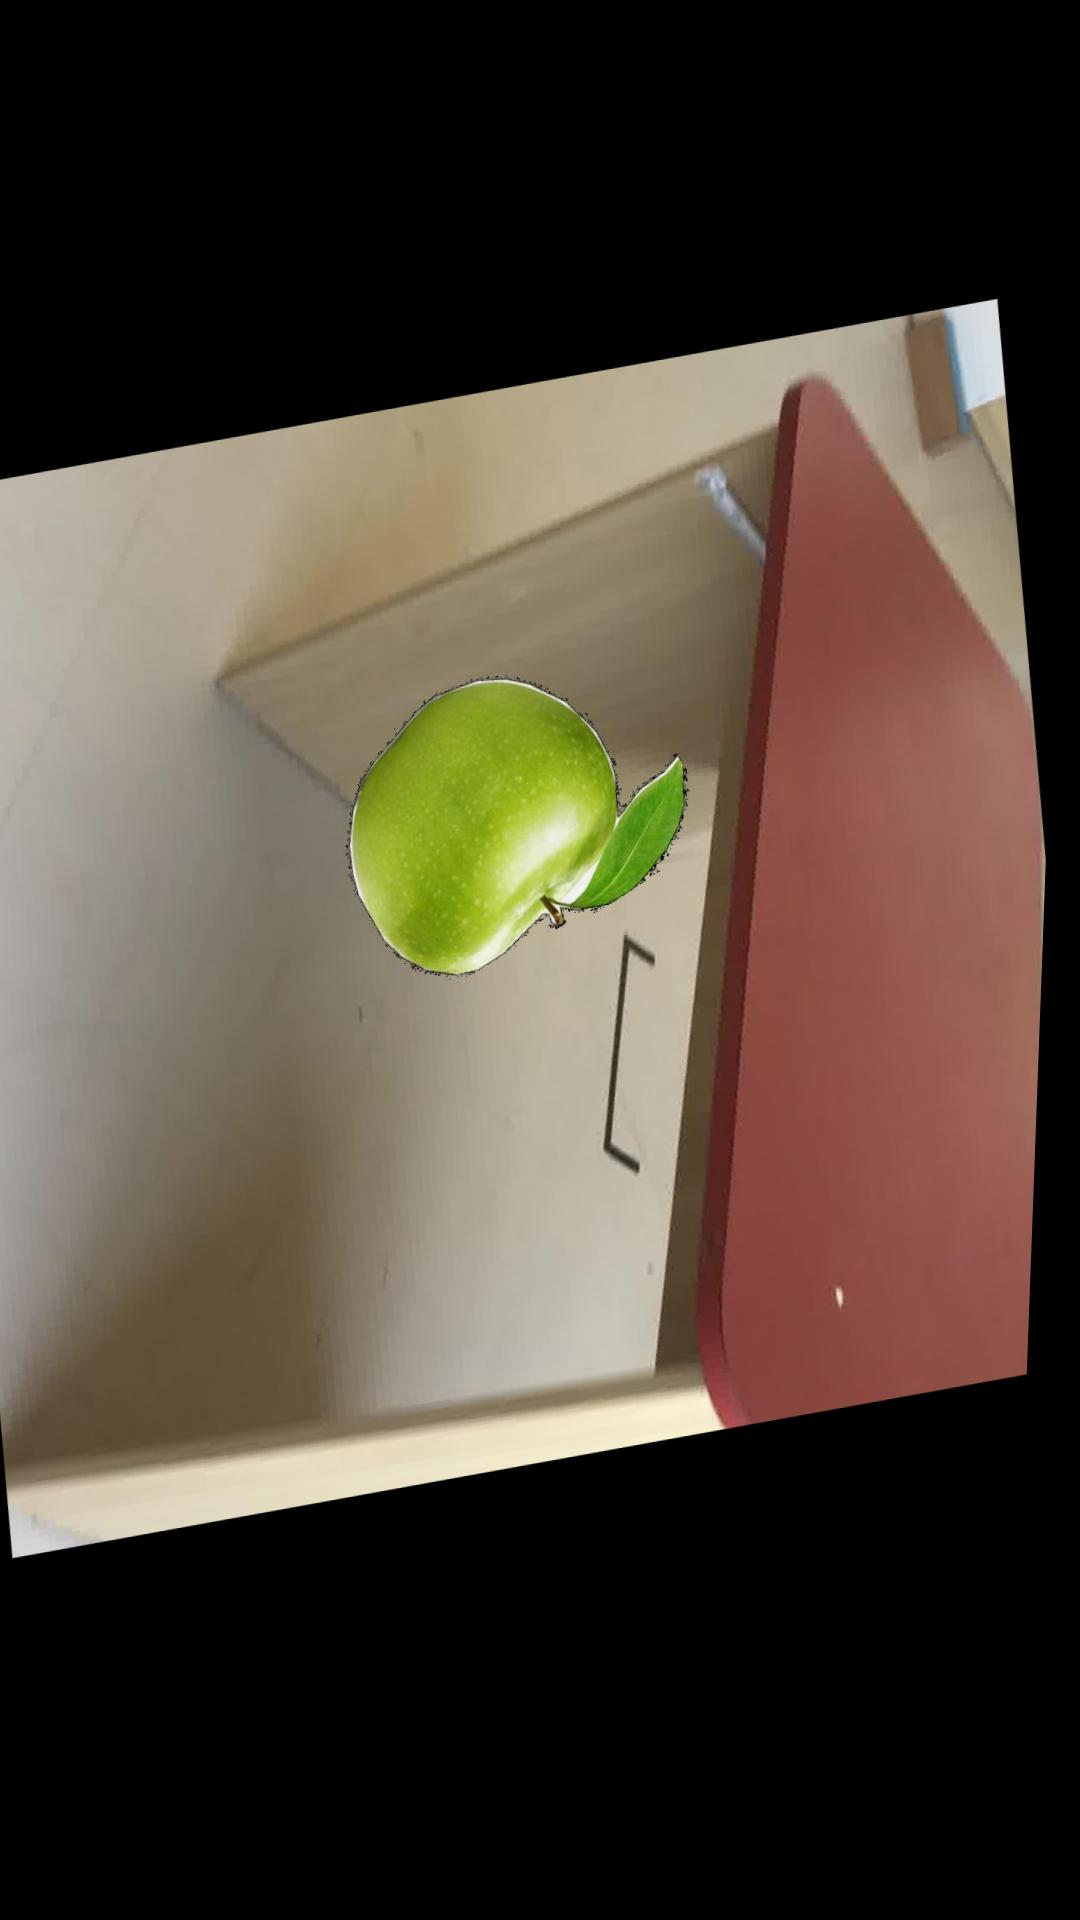green apple: (356, 683, 696, 980)
